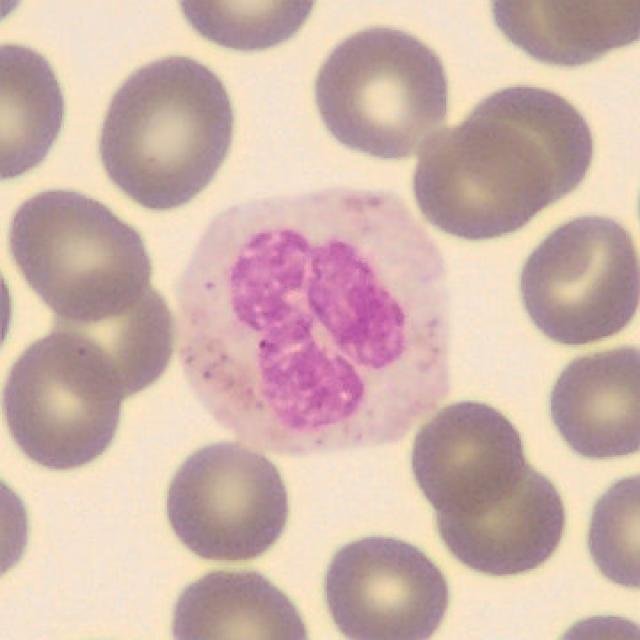Neutrofilo segmentado: (171, 187, 450, 456)
